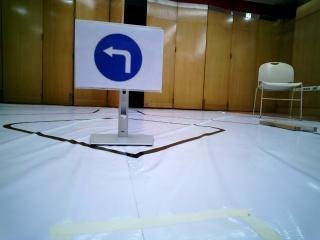left: (79, 17, 159, 91)
